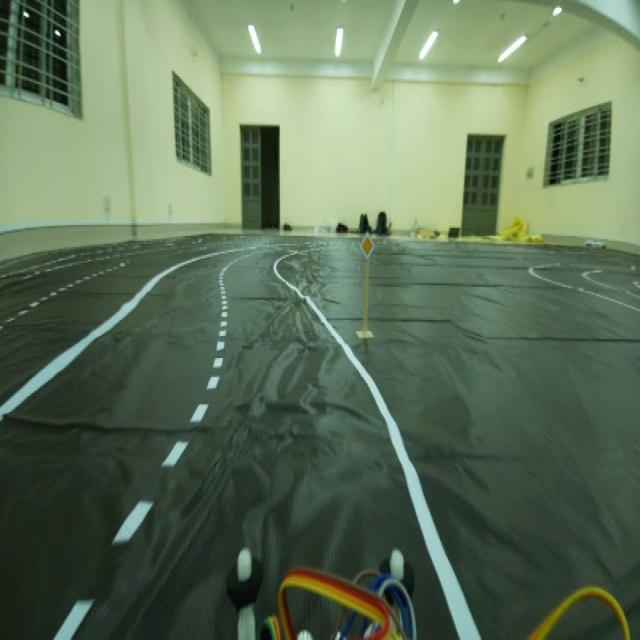priority: (358, 230, 377, 268)
